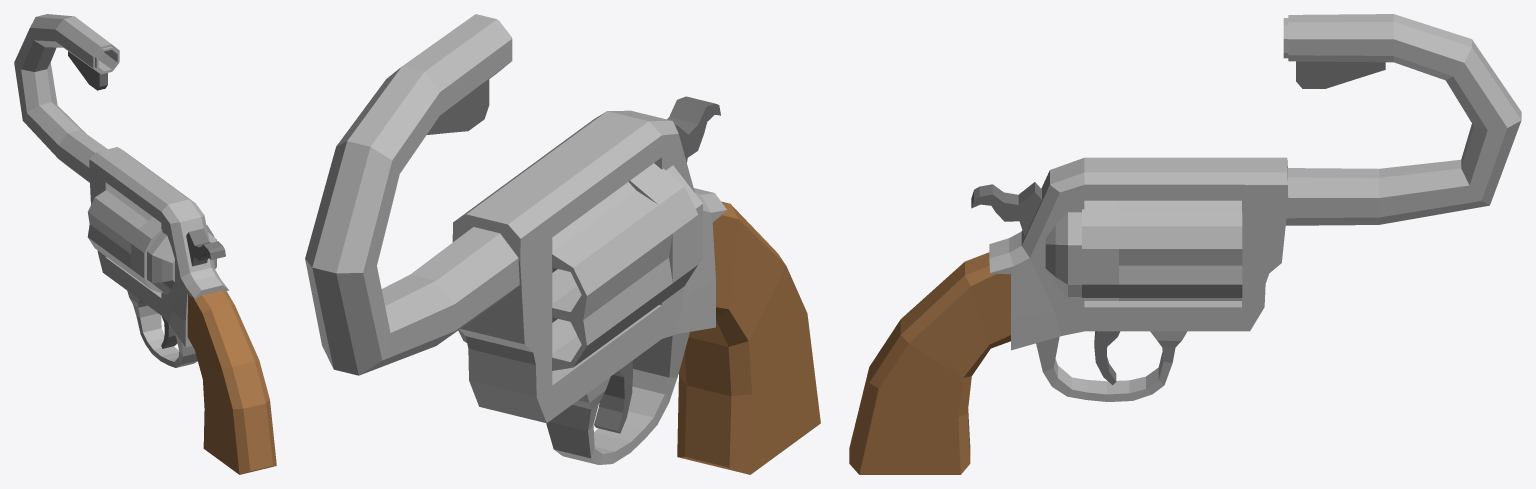
Rendered from Revolver-A-Twisted.fbx.
3 renders of one model, left to right at view 1: azimuth 30°, elevation 25°; view 2: azimuth 150°, elevation 25°; view 3: azimuth 270°, elevation 25°, orthographic. The views are drawn at different scales.
Parts seen in each view (by area): view 1: BigIron.003; view 2: BigIron.003; view 3: BigIron.003.
Boxes of the visible parts, box(x1,y1,x2,y2) form: BigIron.003: box(14, 14, 276, 474); BigIron.003: box(305, 14, 820, 474); BigIron.003: box(849, 14, 1521, 474).
Bounding box in the file's own units: 74.18 × 318 × 436.
